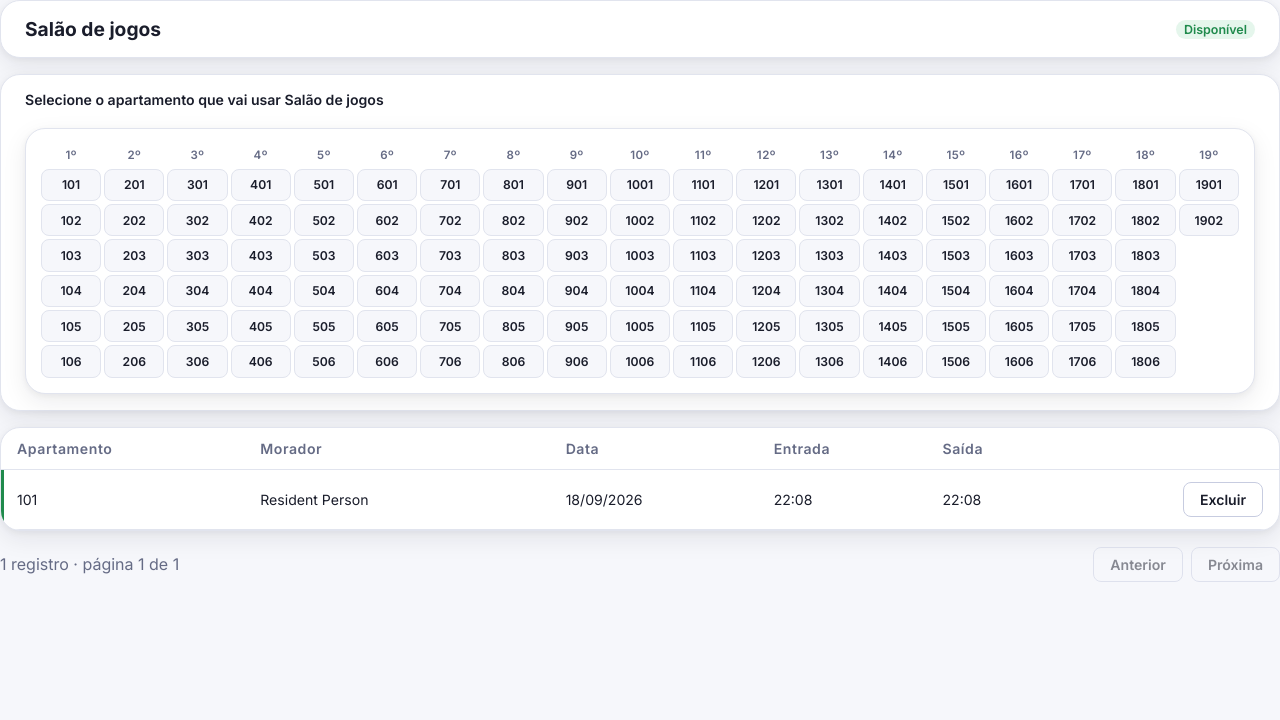
Test: MezaninoRoomPanel › shows an error toast when removing an entry fails
Click the button "Excluir" at (1223, 499), box [1183,482,1263,517]
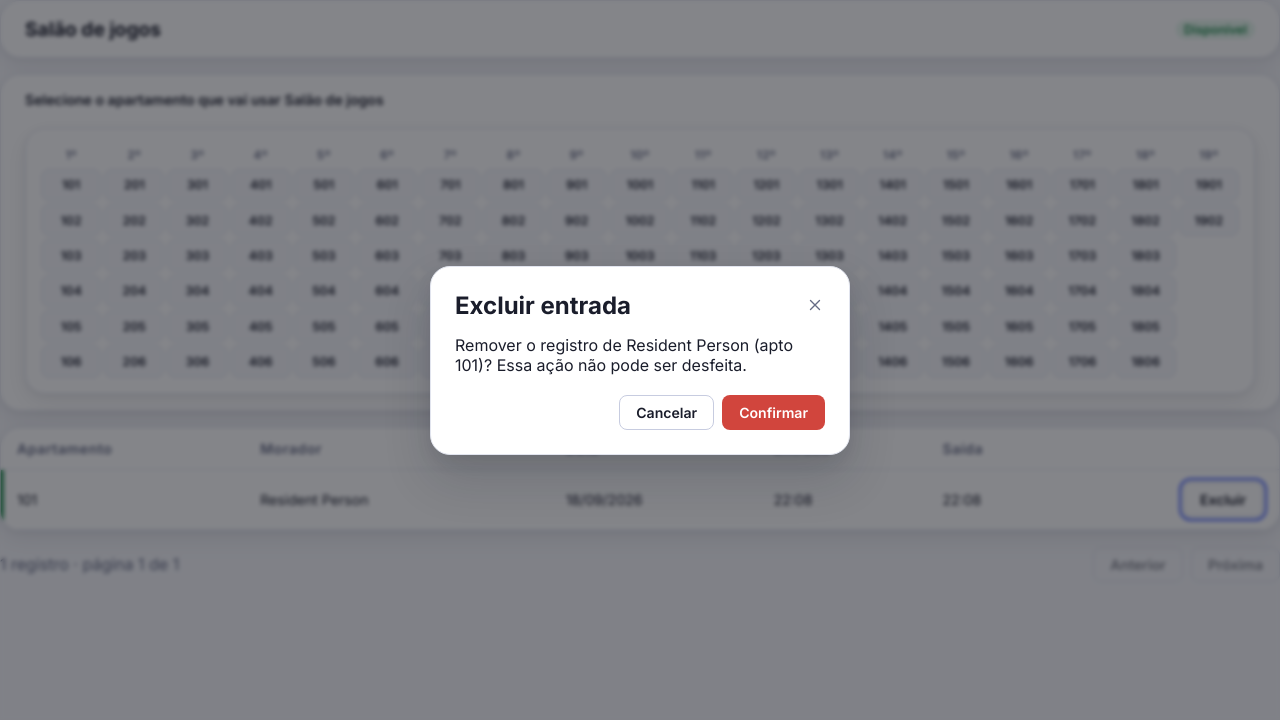
Click the button "Confirmar" at (774, 412), box [722,394,825,430]
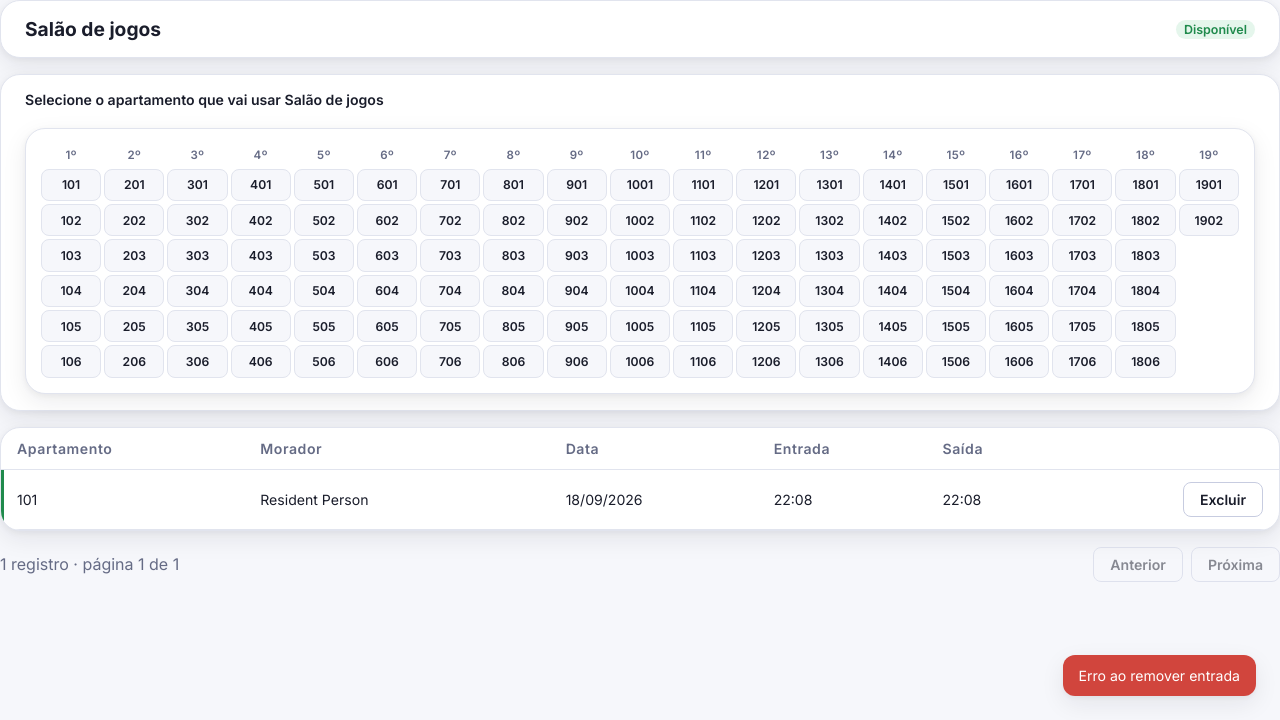
expect the text "Erro ao remover entrada" is shown: met, box [1062,655,1256,696]
